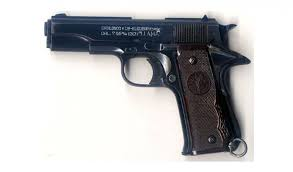Arma Real: (43, 12, 252, 157)
